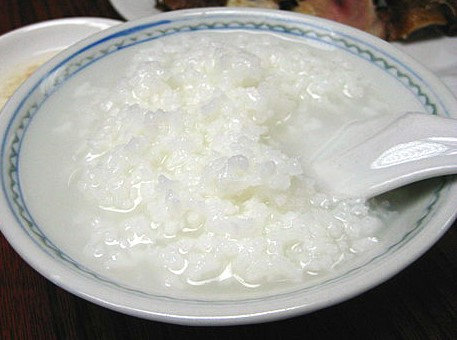plain rice: (113, 37, 325, 280)
